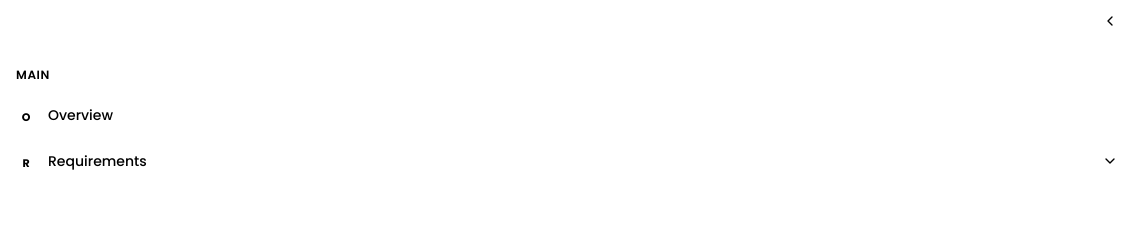
Test: NavMenuComponent › expands and collapses an item with children via the expand toggle
The image size is (1143, 230).
Click the button with class "lsd-nav-menu__expand".
click(1110, 161)  # box [1094,145,1126,177]
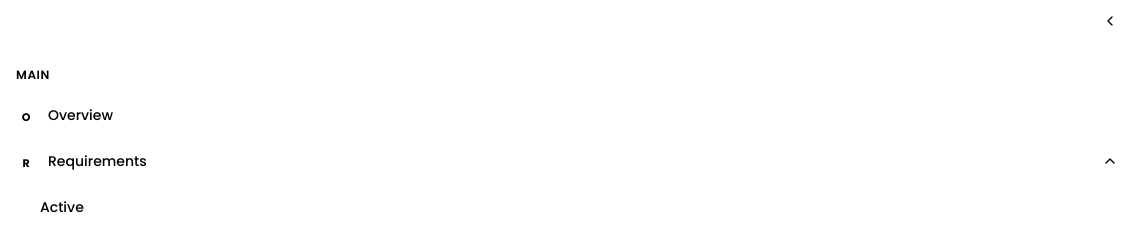
Result: the button with class "lsd-nav-menu__expand" is expanded at [1094,145,1126,177]
